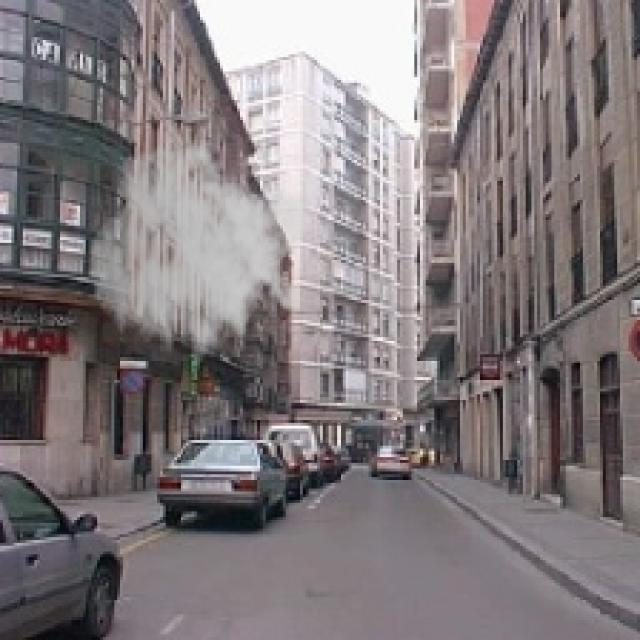smoke: (88, 128, 312, 383)
